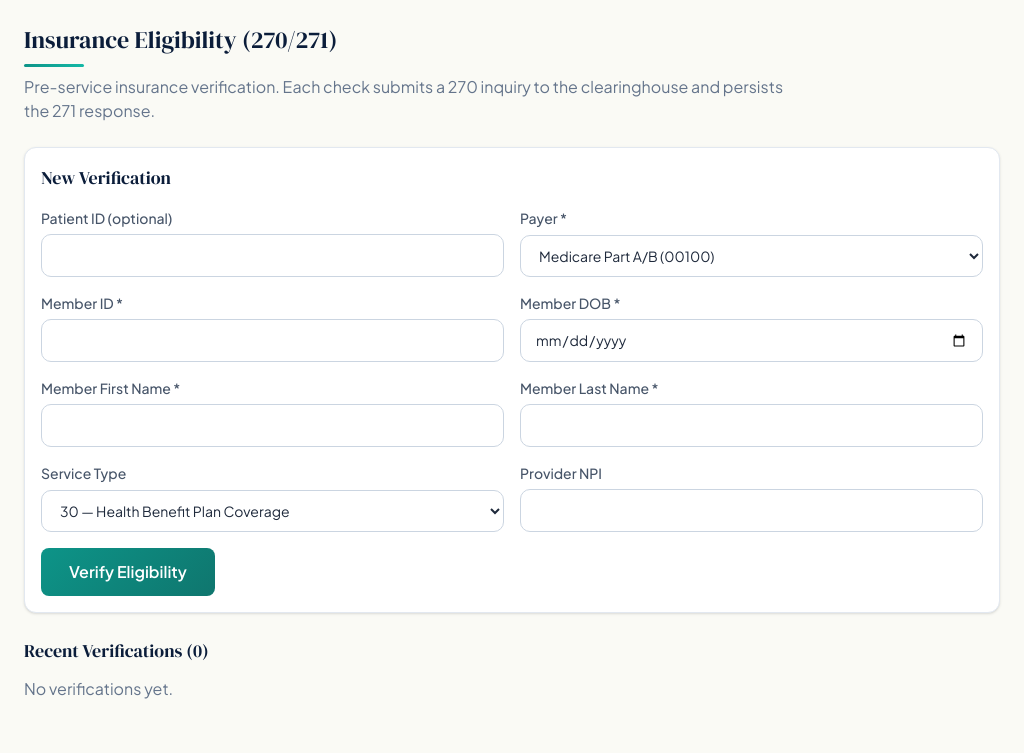
Test: EligibilityPage › shows backend error when verification fails
Type "M-1" into the field labelled "Member ID *".
click(272, 340); type("M-1")  # box [41,319,504,362]
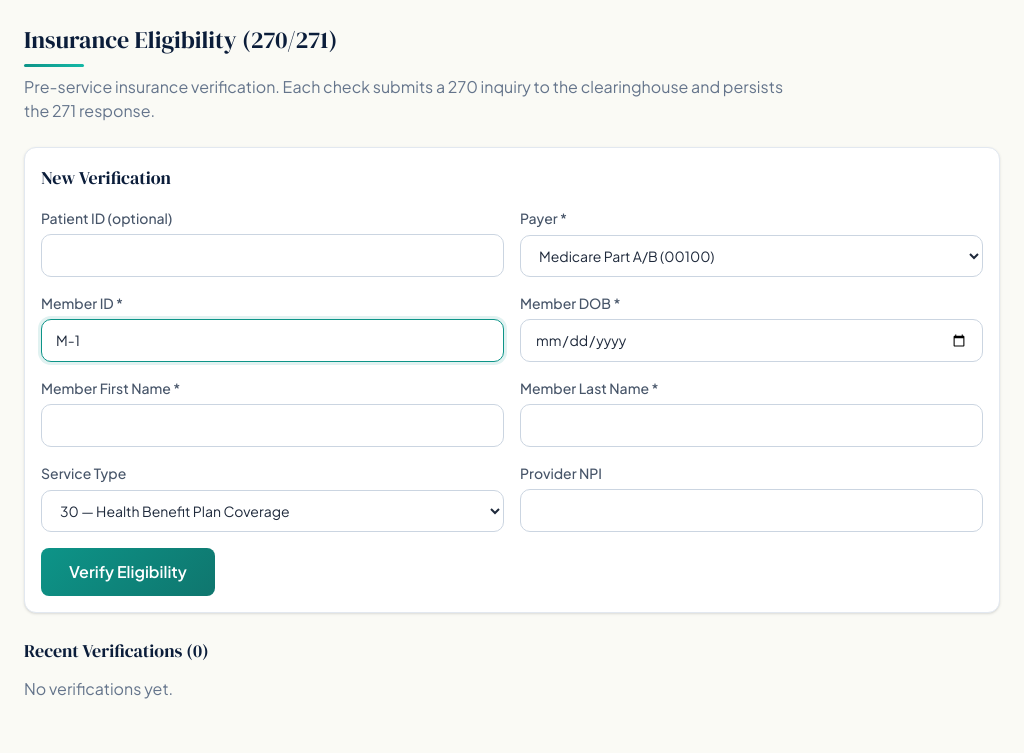
Type "1940-03-14" into the date field labelled "Member DOB *".
click(752, 340); type("1940-03-14")  # box [520,319,983,362]
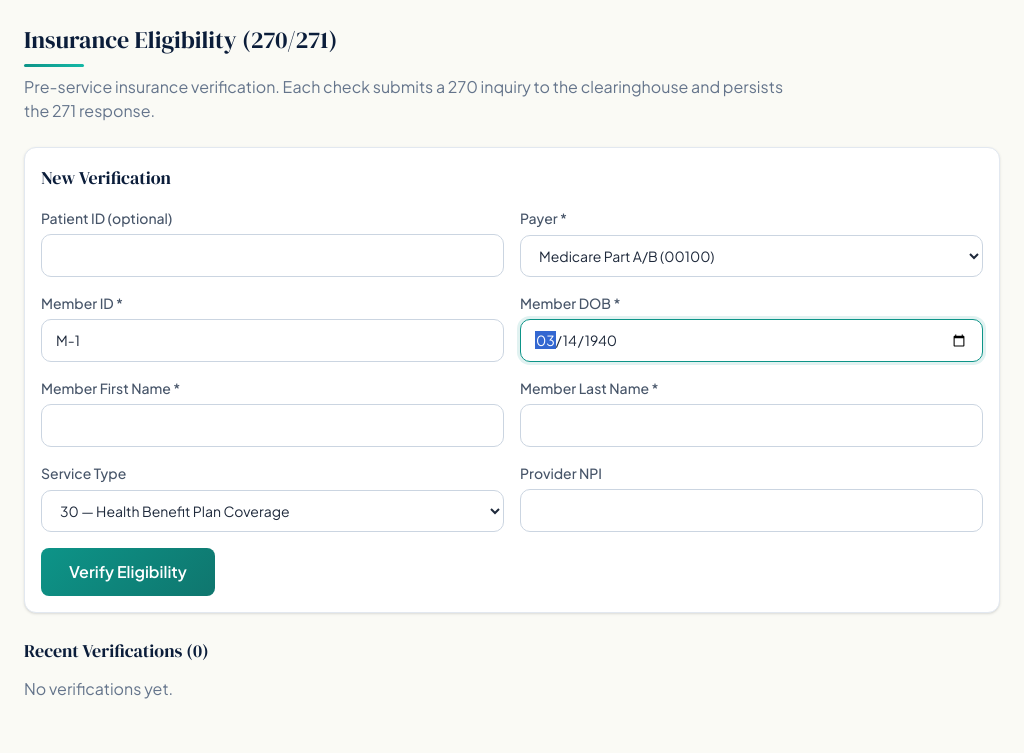
Type "X" into the field labelled "Member First Name *".
click(272, 426); type("X")  # box [41,404,504,447]
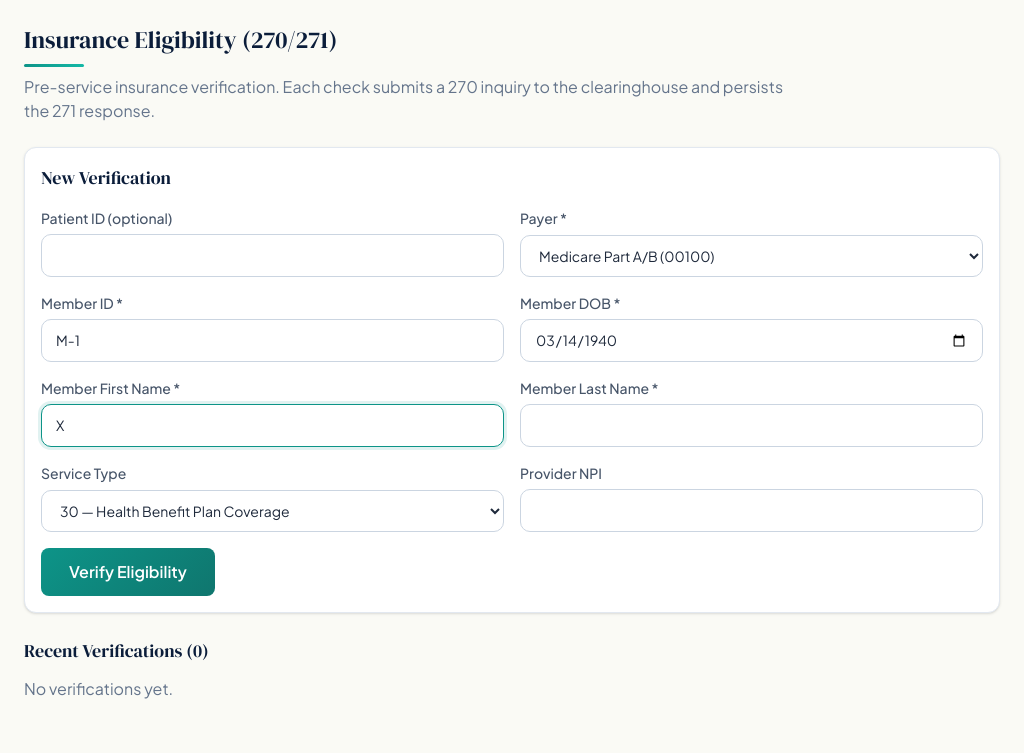
Type "Y" into the field labelled "Member Last Name *".
click(752, 426); type("Y")  # box [520,404,983,447]
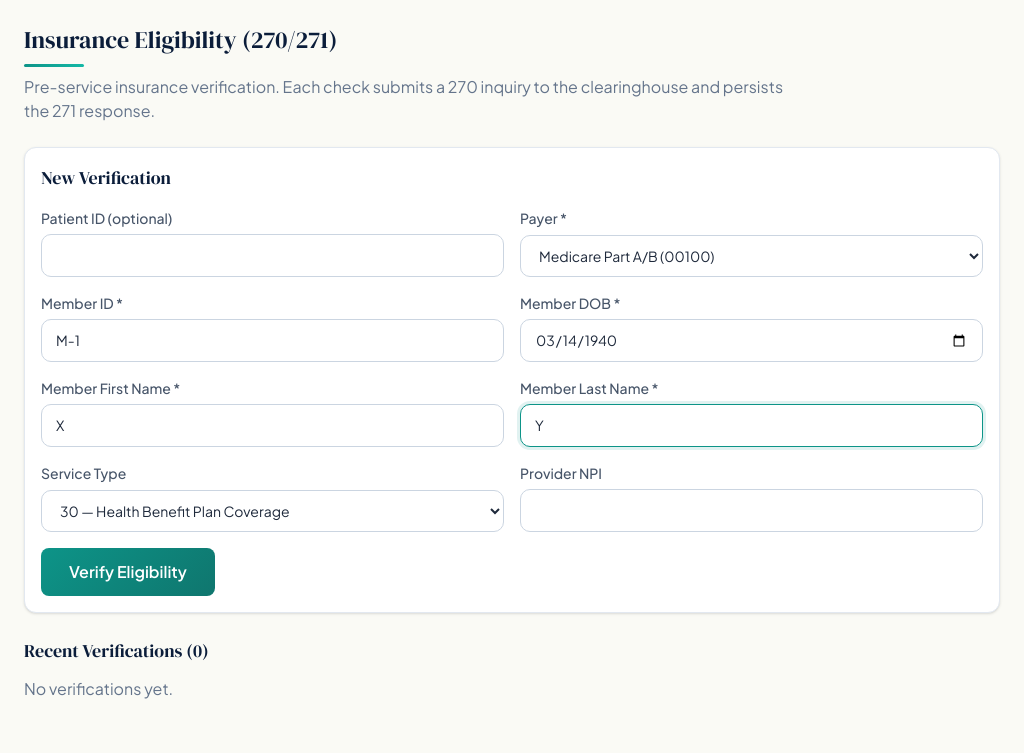
Click the button "Verify Eligibility".
click(128, 572)  # box [41,548,215,596]
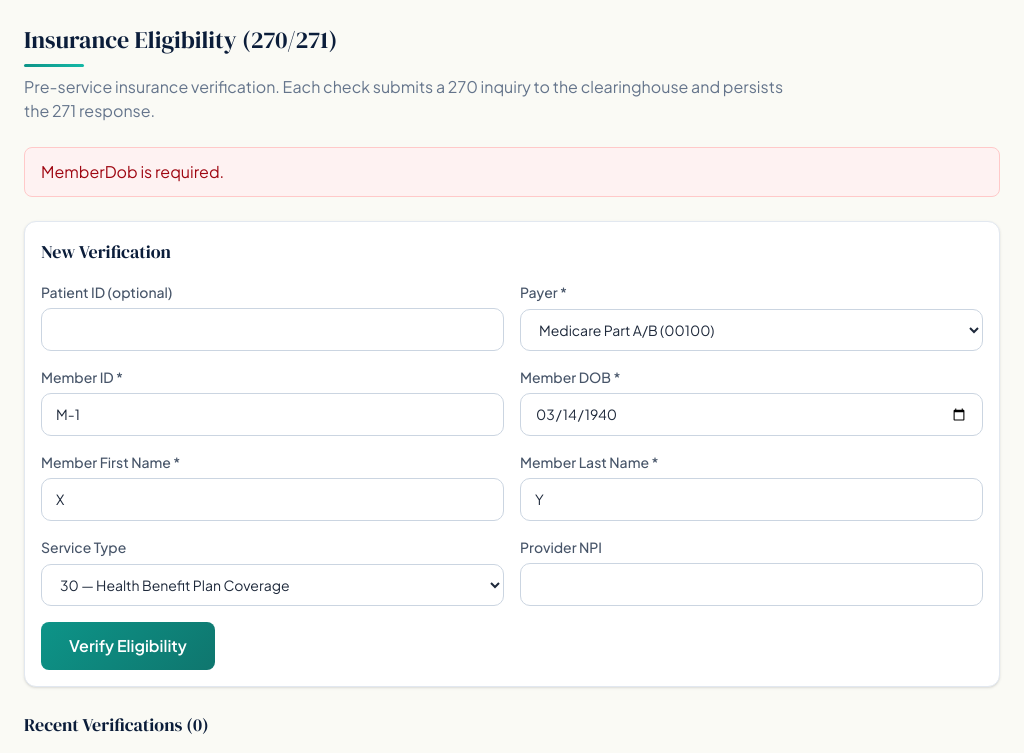
Result: the text "MemberDob is required." is shown at [24,147,1000,197]
